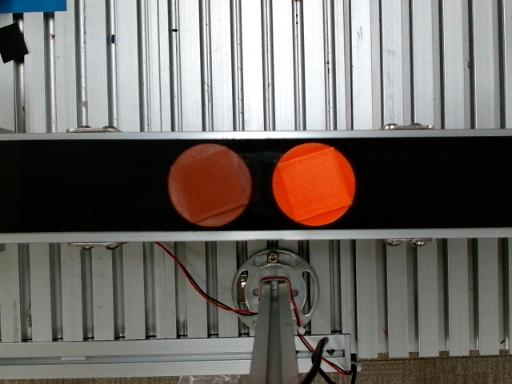Square: (170, 147, 248, 223), (278, 147, 353, 222)
